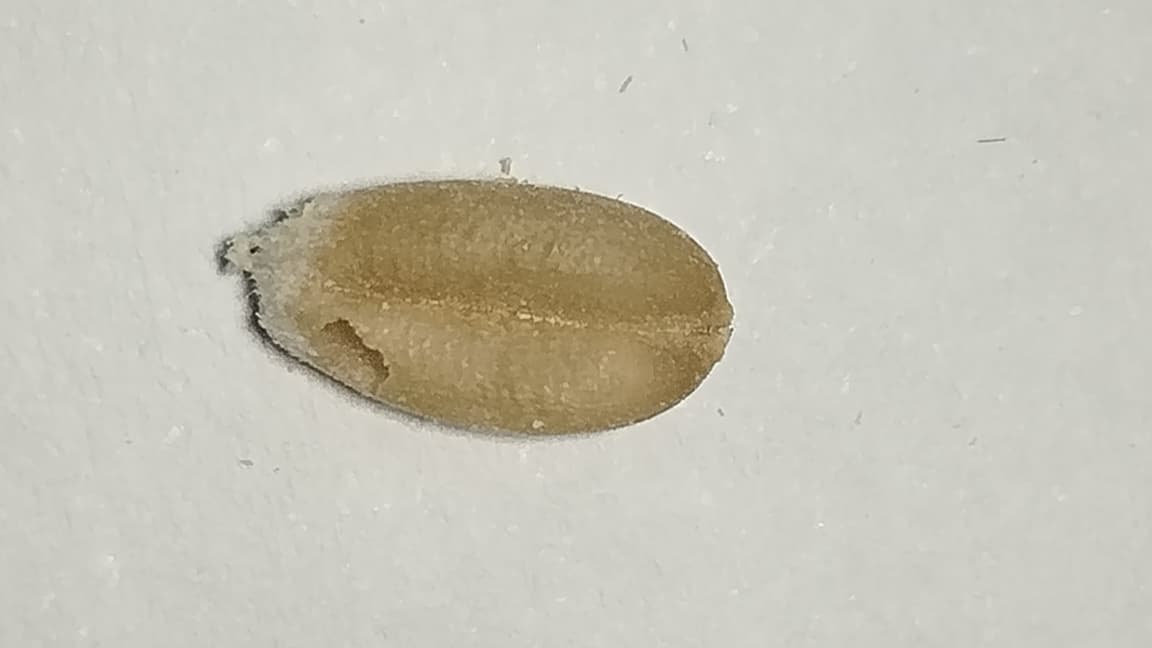damage: (233, 179, 732, 433)
insectdamage: (295, 289, 395, 393)
